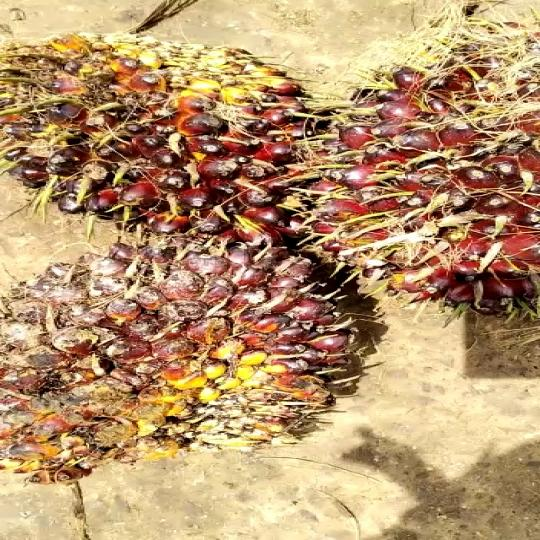kurang masak: (0, 245, 356, 481), (0, 19, 340, 251), (286, 26, 540, 276)
